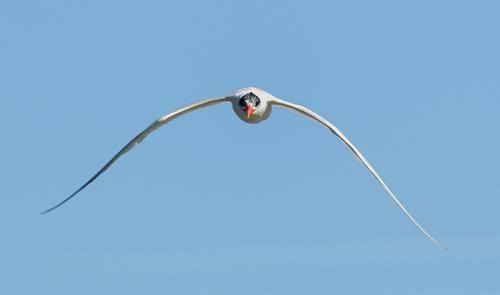bird: (41, 72, 447, 252)
